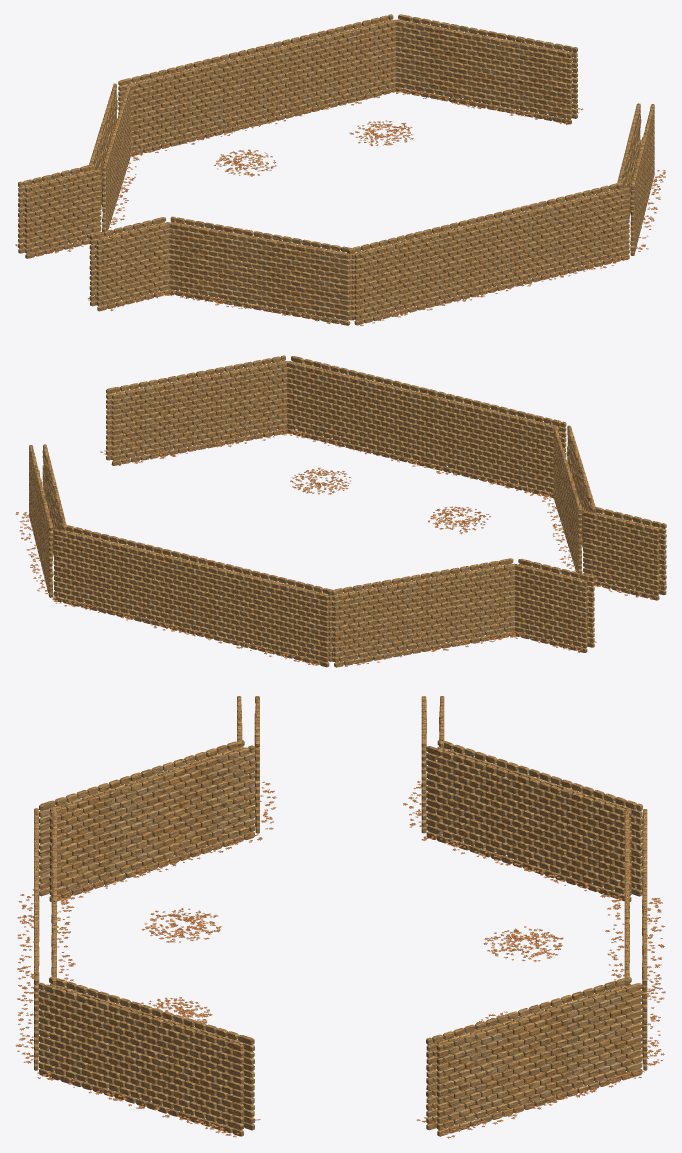
Rendered from AutumnDetailRoom02.fbx.
3 renders of one model, top to bottom at view 1: azimuth 30°, elevation 25°; view 2: azimuth 150°, elevation 25°; view 3: azimuth 270°, elevation 25°, orthographic. The views are drawn at different scales.
Visible parts, largest first — view 1: R02_AutumnStonework_LOD0, R02_AutumnLeafDrifts_LOD0; view 2: R02_AutumnStonework_LOD0, R02_AutumnLeafDrifts_LOD0; view 3: R02_AutumnStonework_LOD0, R02_AutumnLeafDrifts_LOD0.
Part boxes in pixels (<box>): R02_AutumnStonework_LOD0: <box>18,14,654,325</box>; R02_AutumnLeafDrifts_LOD0: <box>15,88,665,325</box>; R02_AutumnStonework_LOD0: <box>29,355,666,667</box>; R02_AutumnLeafDrifts_LOD0: <box>15,429,666,666</box>; R02_AutumnStonework_LOD0: <box>34,696,647,1136</box>; R02_AutumnLeafDrifts_LOD0: <box>15,781,665,1138</box>.
Size of what is drawn, in the model's own units: 45.91 by 5.47 by 35.43.
